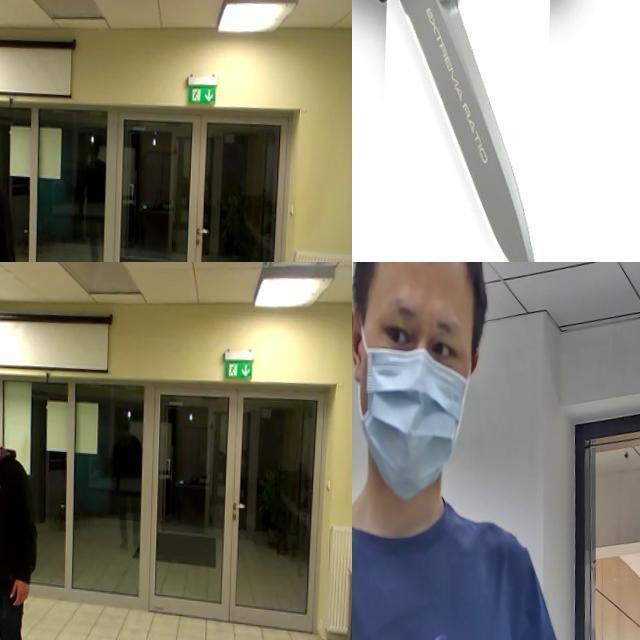-: (382, 0, 553, 262)
gun-knife-thesis - v11 Yolov5 augmented: (352, 262, 387, 524), (0, 528, 18, 562), (0, 214, 16, 248)
